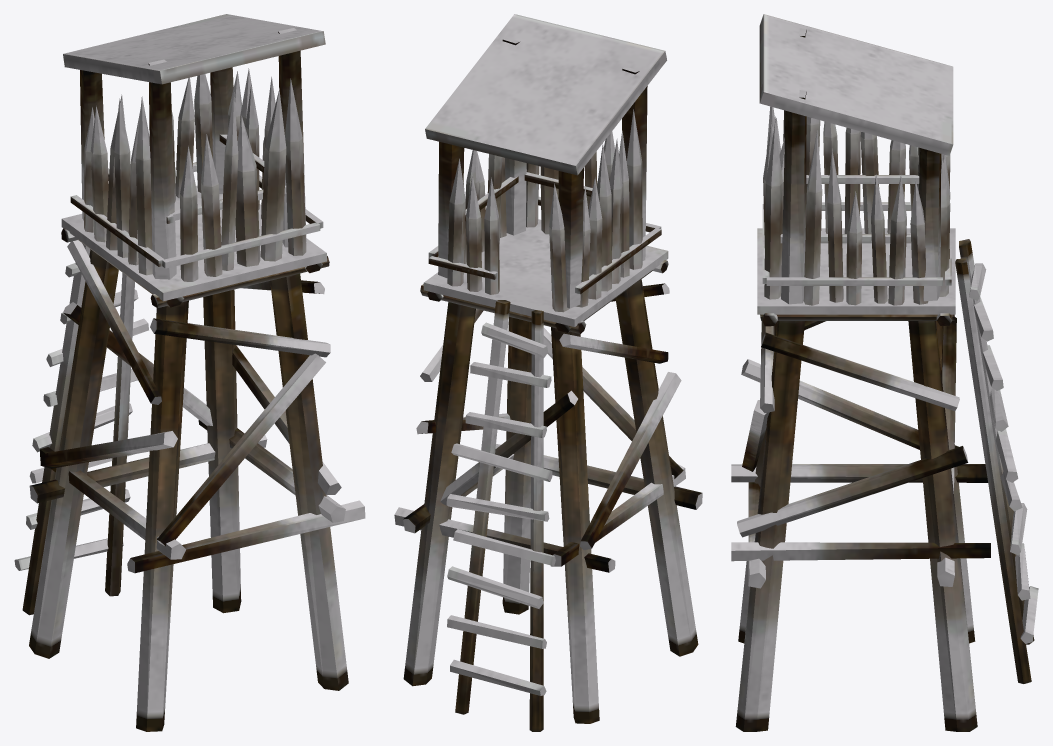
3 views of the same model, side by side, from view 1: azimuth 30°, elevation 25°; view 2: azimuth 150°, elevation 25°; view 3: azimuth 270°, elevation 25° (orthographic). The views are drawn at different scales.
Parts seen in each view (by area): view 1: Box01; view 2: Box01; view 3: Box01.
Boxes of the visible parts, x1,y1,x2,y2 form: Box01: [14, 14, 365, 731]; Box01: [394, 14, 702, 731]; Box01: [731, 14, 1038, 731].
Size of the model in its own units: 3.77 by 10.1 by 4.43.
Materials: 1 (1 with a texture image).
